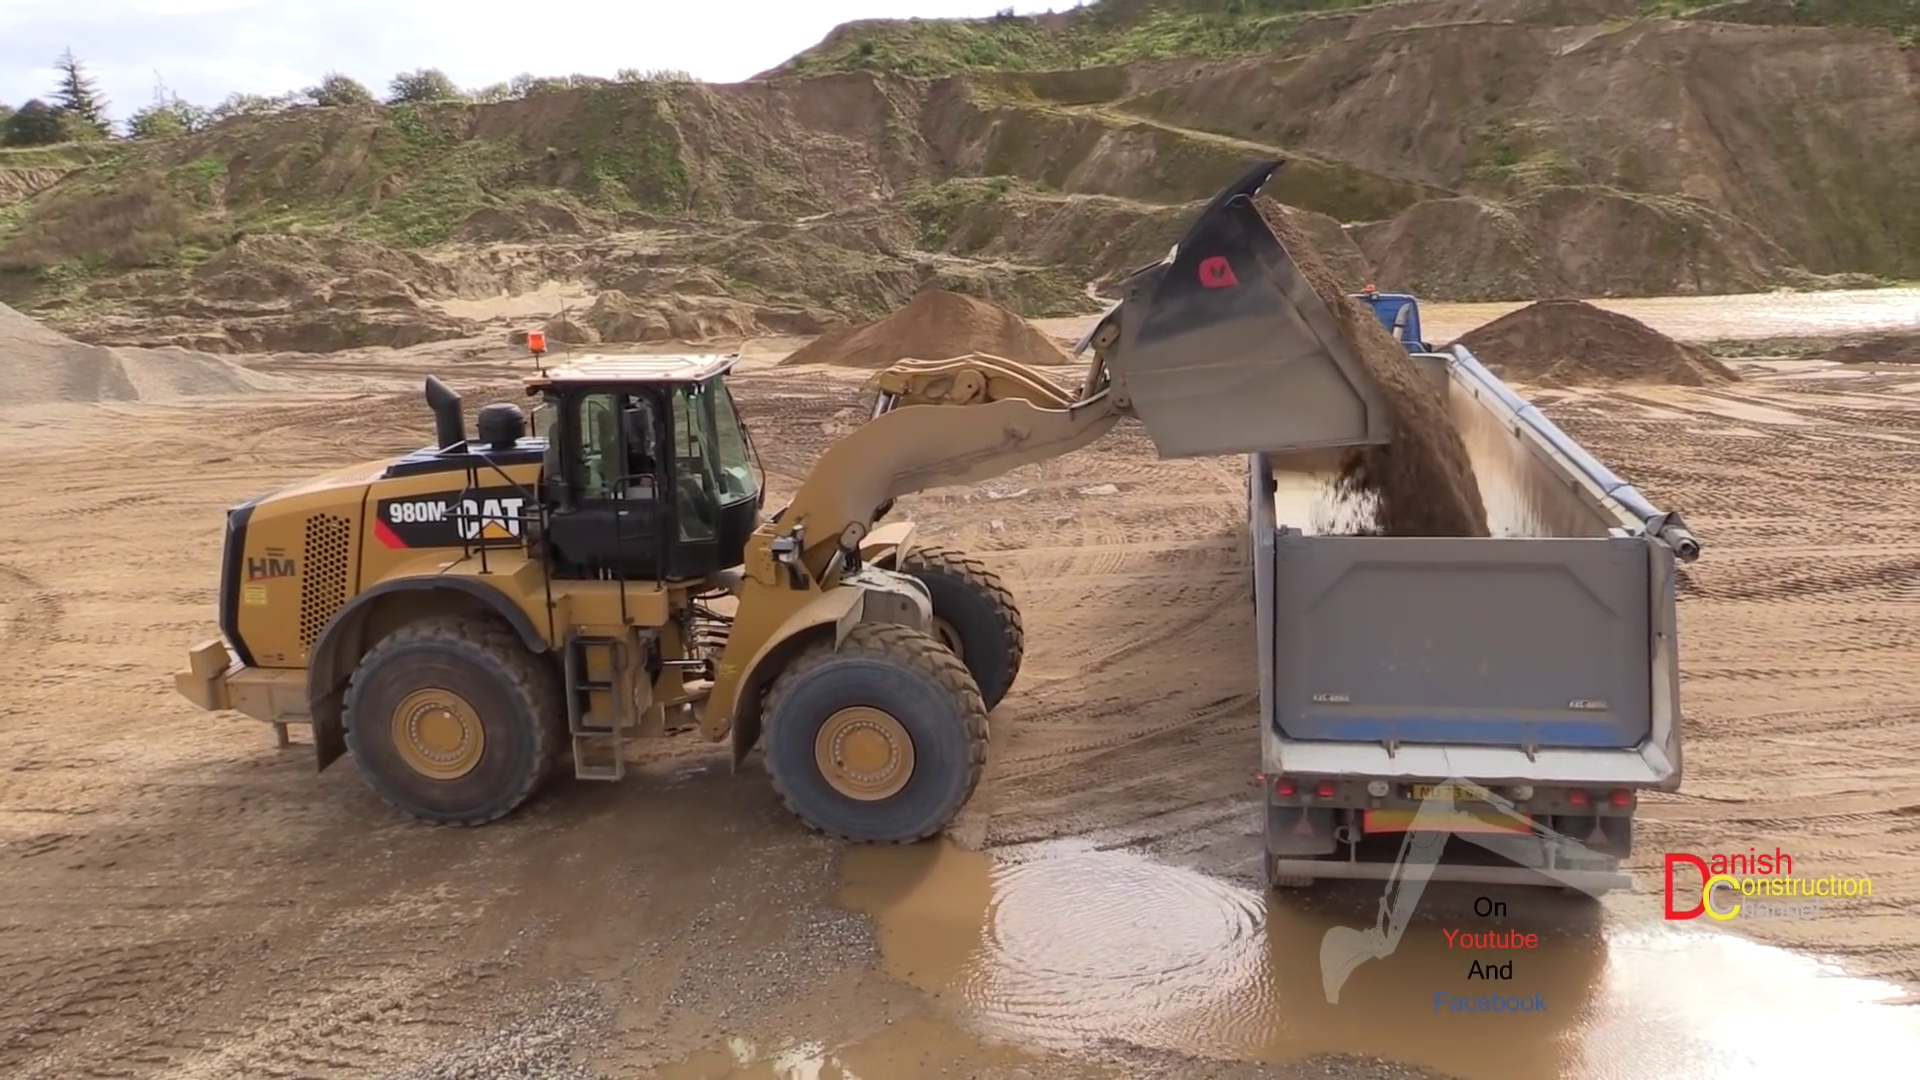truck: (1193, 290, 1698, 899)
wheel loader: (175, 160, 1400, 845)
